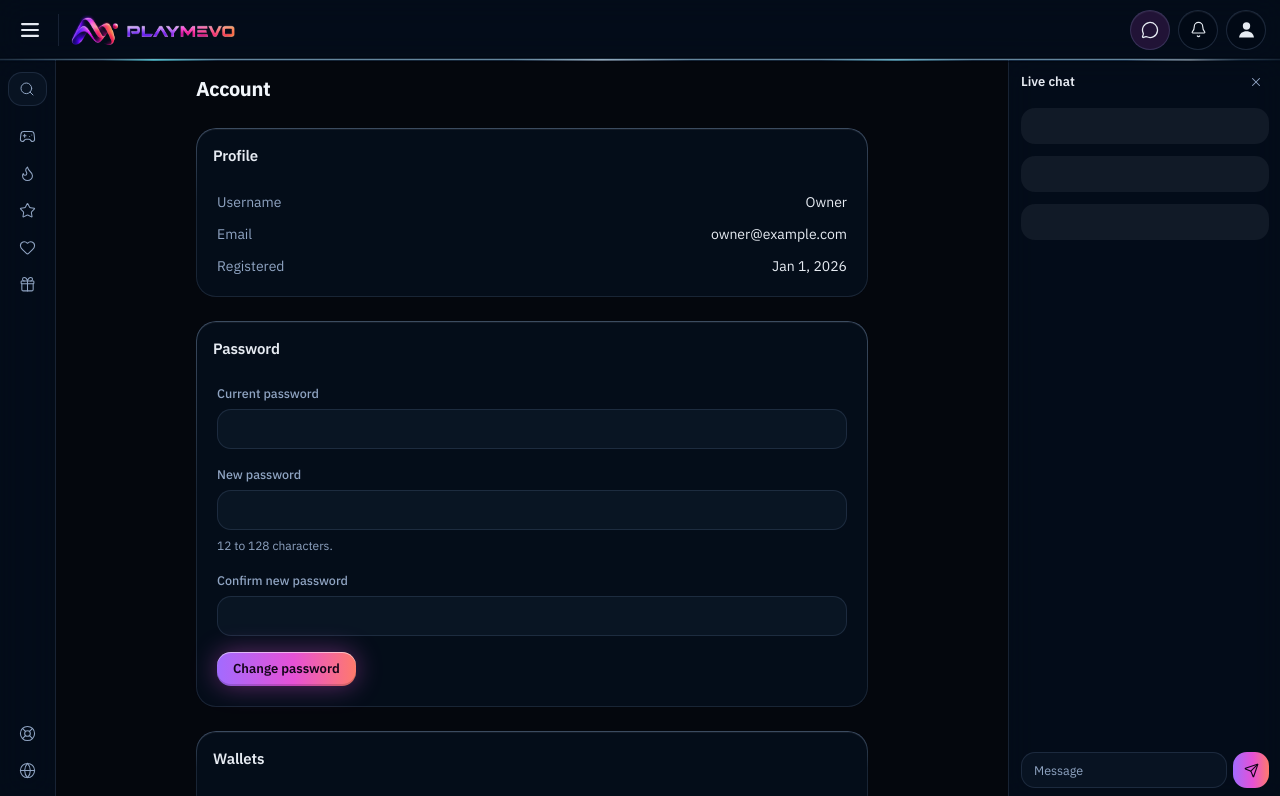
Scenario: the account password form › validates confirmation before sending
This screenshot has width=1280, height=796.
Type "current-password" into the password field labelled "Current password".
click(532, 429); type("current-password")  # box [217,409,847,449]
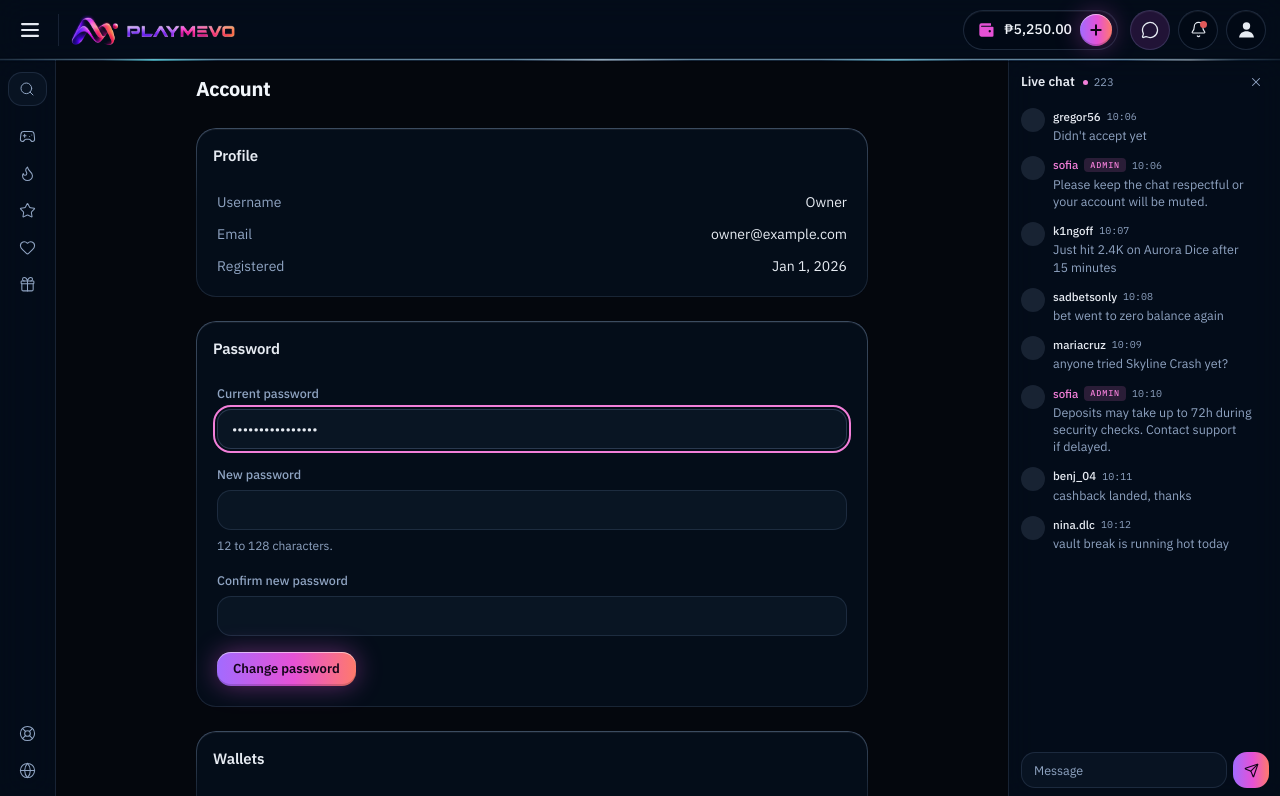
Type "new-secure-password" into the password field labelled "New password".
click(532, 510); type("new-secure-password")  # box [217,490,847,530]
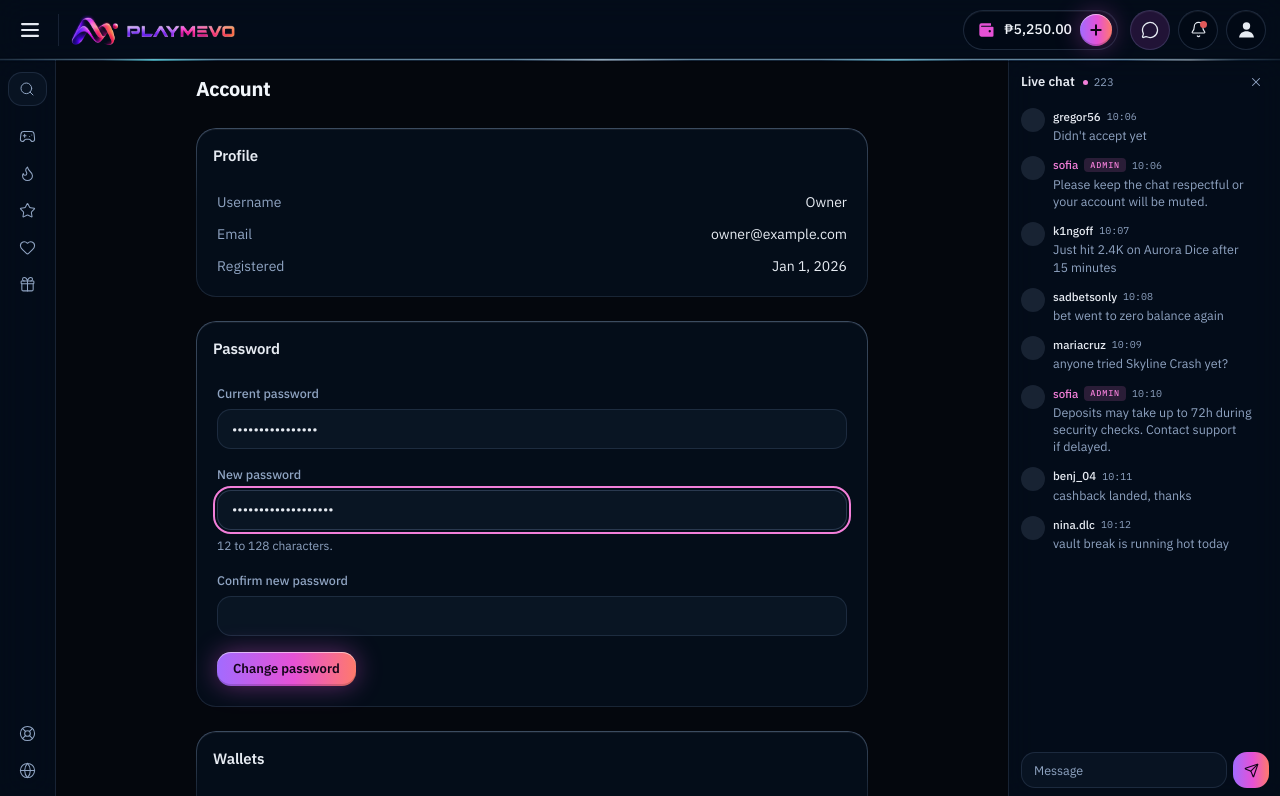
Type "different-password" into the password field labelled "Confirm new password".
click(532, 616); type("different-password")  # box [217,596,847,636]
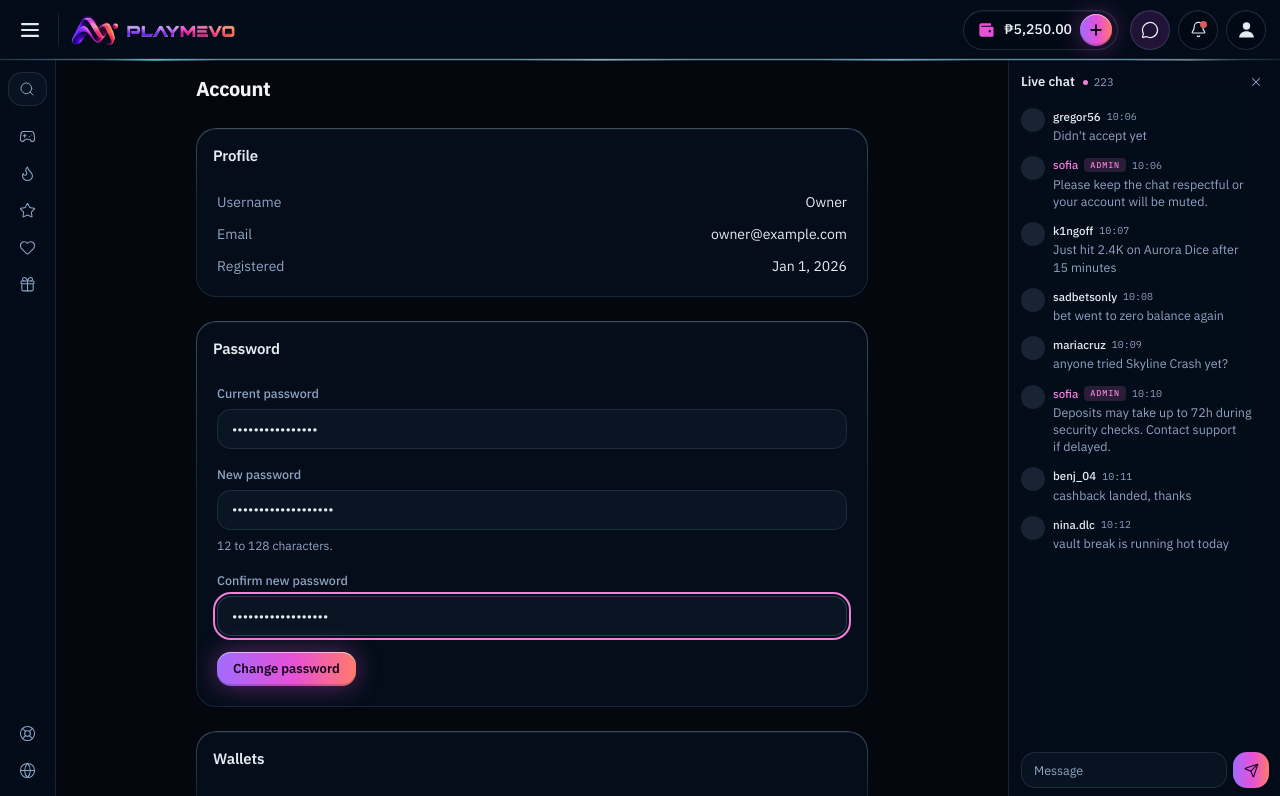
Click the button "Change password".
click(286, 669)  # box [217,652,356,686]
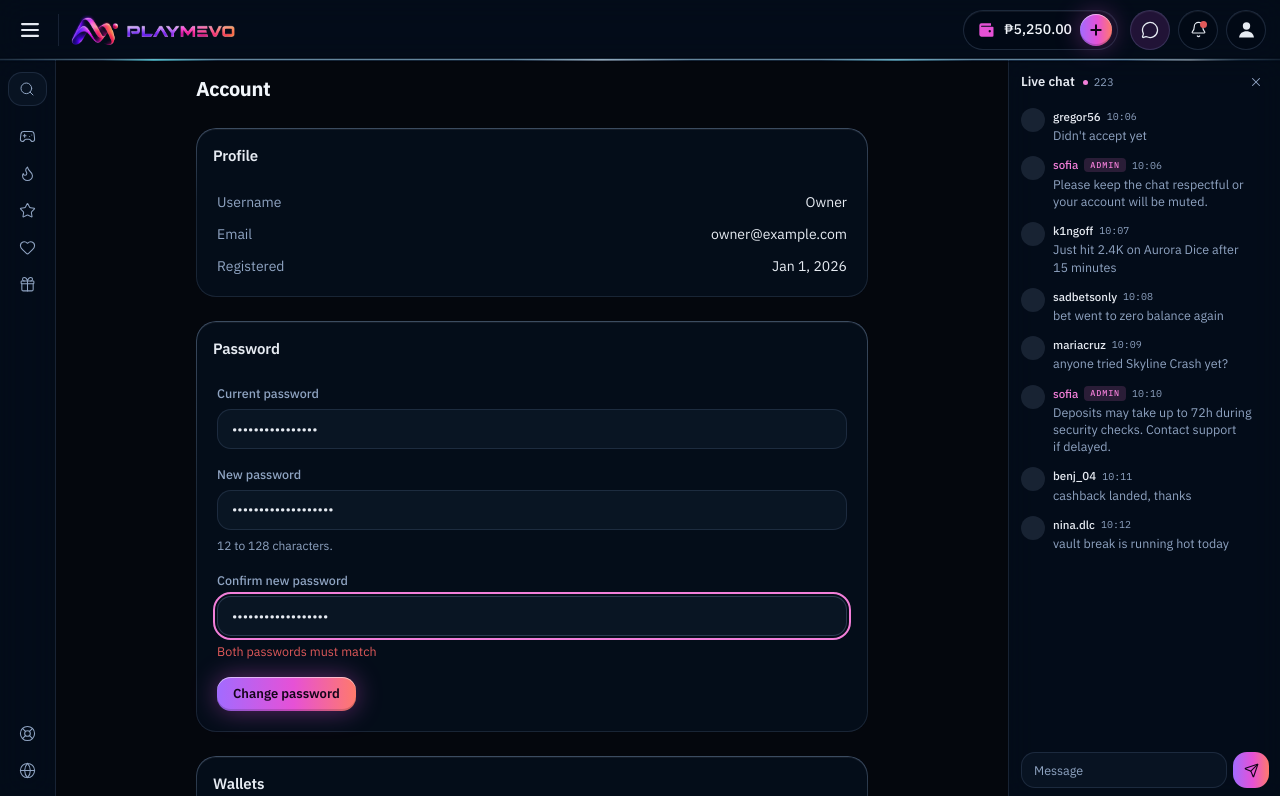
Check: the message reads "Both passwords must match", box [217,643,376,659]
